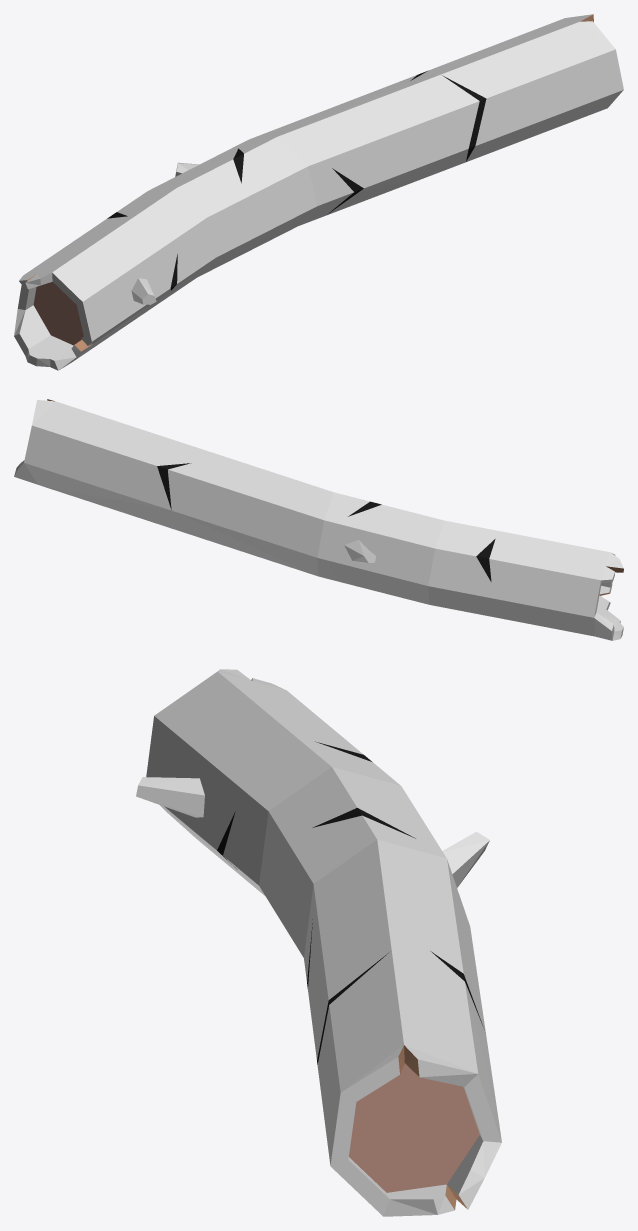
Rendered from oak log4.fbx.
3 views of the same model, one above another, from view 1: azimuth 30°, elevation 25°; view 2: azimuth 150°, elevation 25°; view 3: azimuth 270°, elevation 25° (orthographic). The views are drawn at different scales.
Parts seen in each view (by area): view 1: TreeLogBirchE_1; view 2: TreeLogBirchE_1; view 3: TreeLogBirchE_1.
Part boxes in pixels (x1,y1,x2,y2): TreeLogBirchE_1: [14, 14, 623, 370]; TreeLogBirchE_1: [14, 399, 623, 640]; TreeLogBirchE_1: [136, 669, 501, 1216].
Size of the model in its own units: 967 by 236 by 278.
